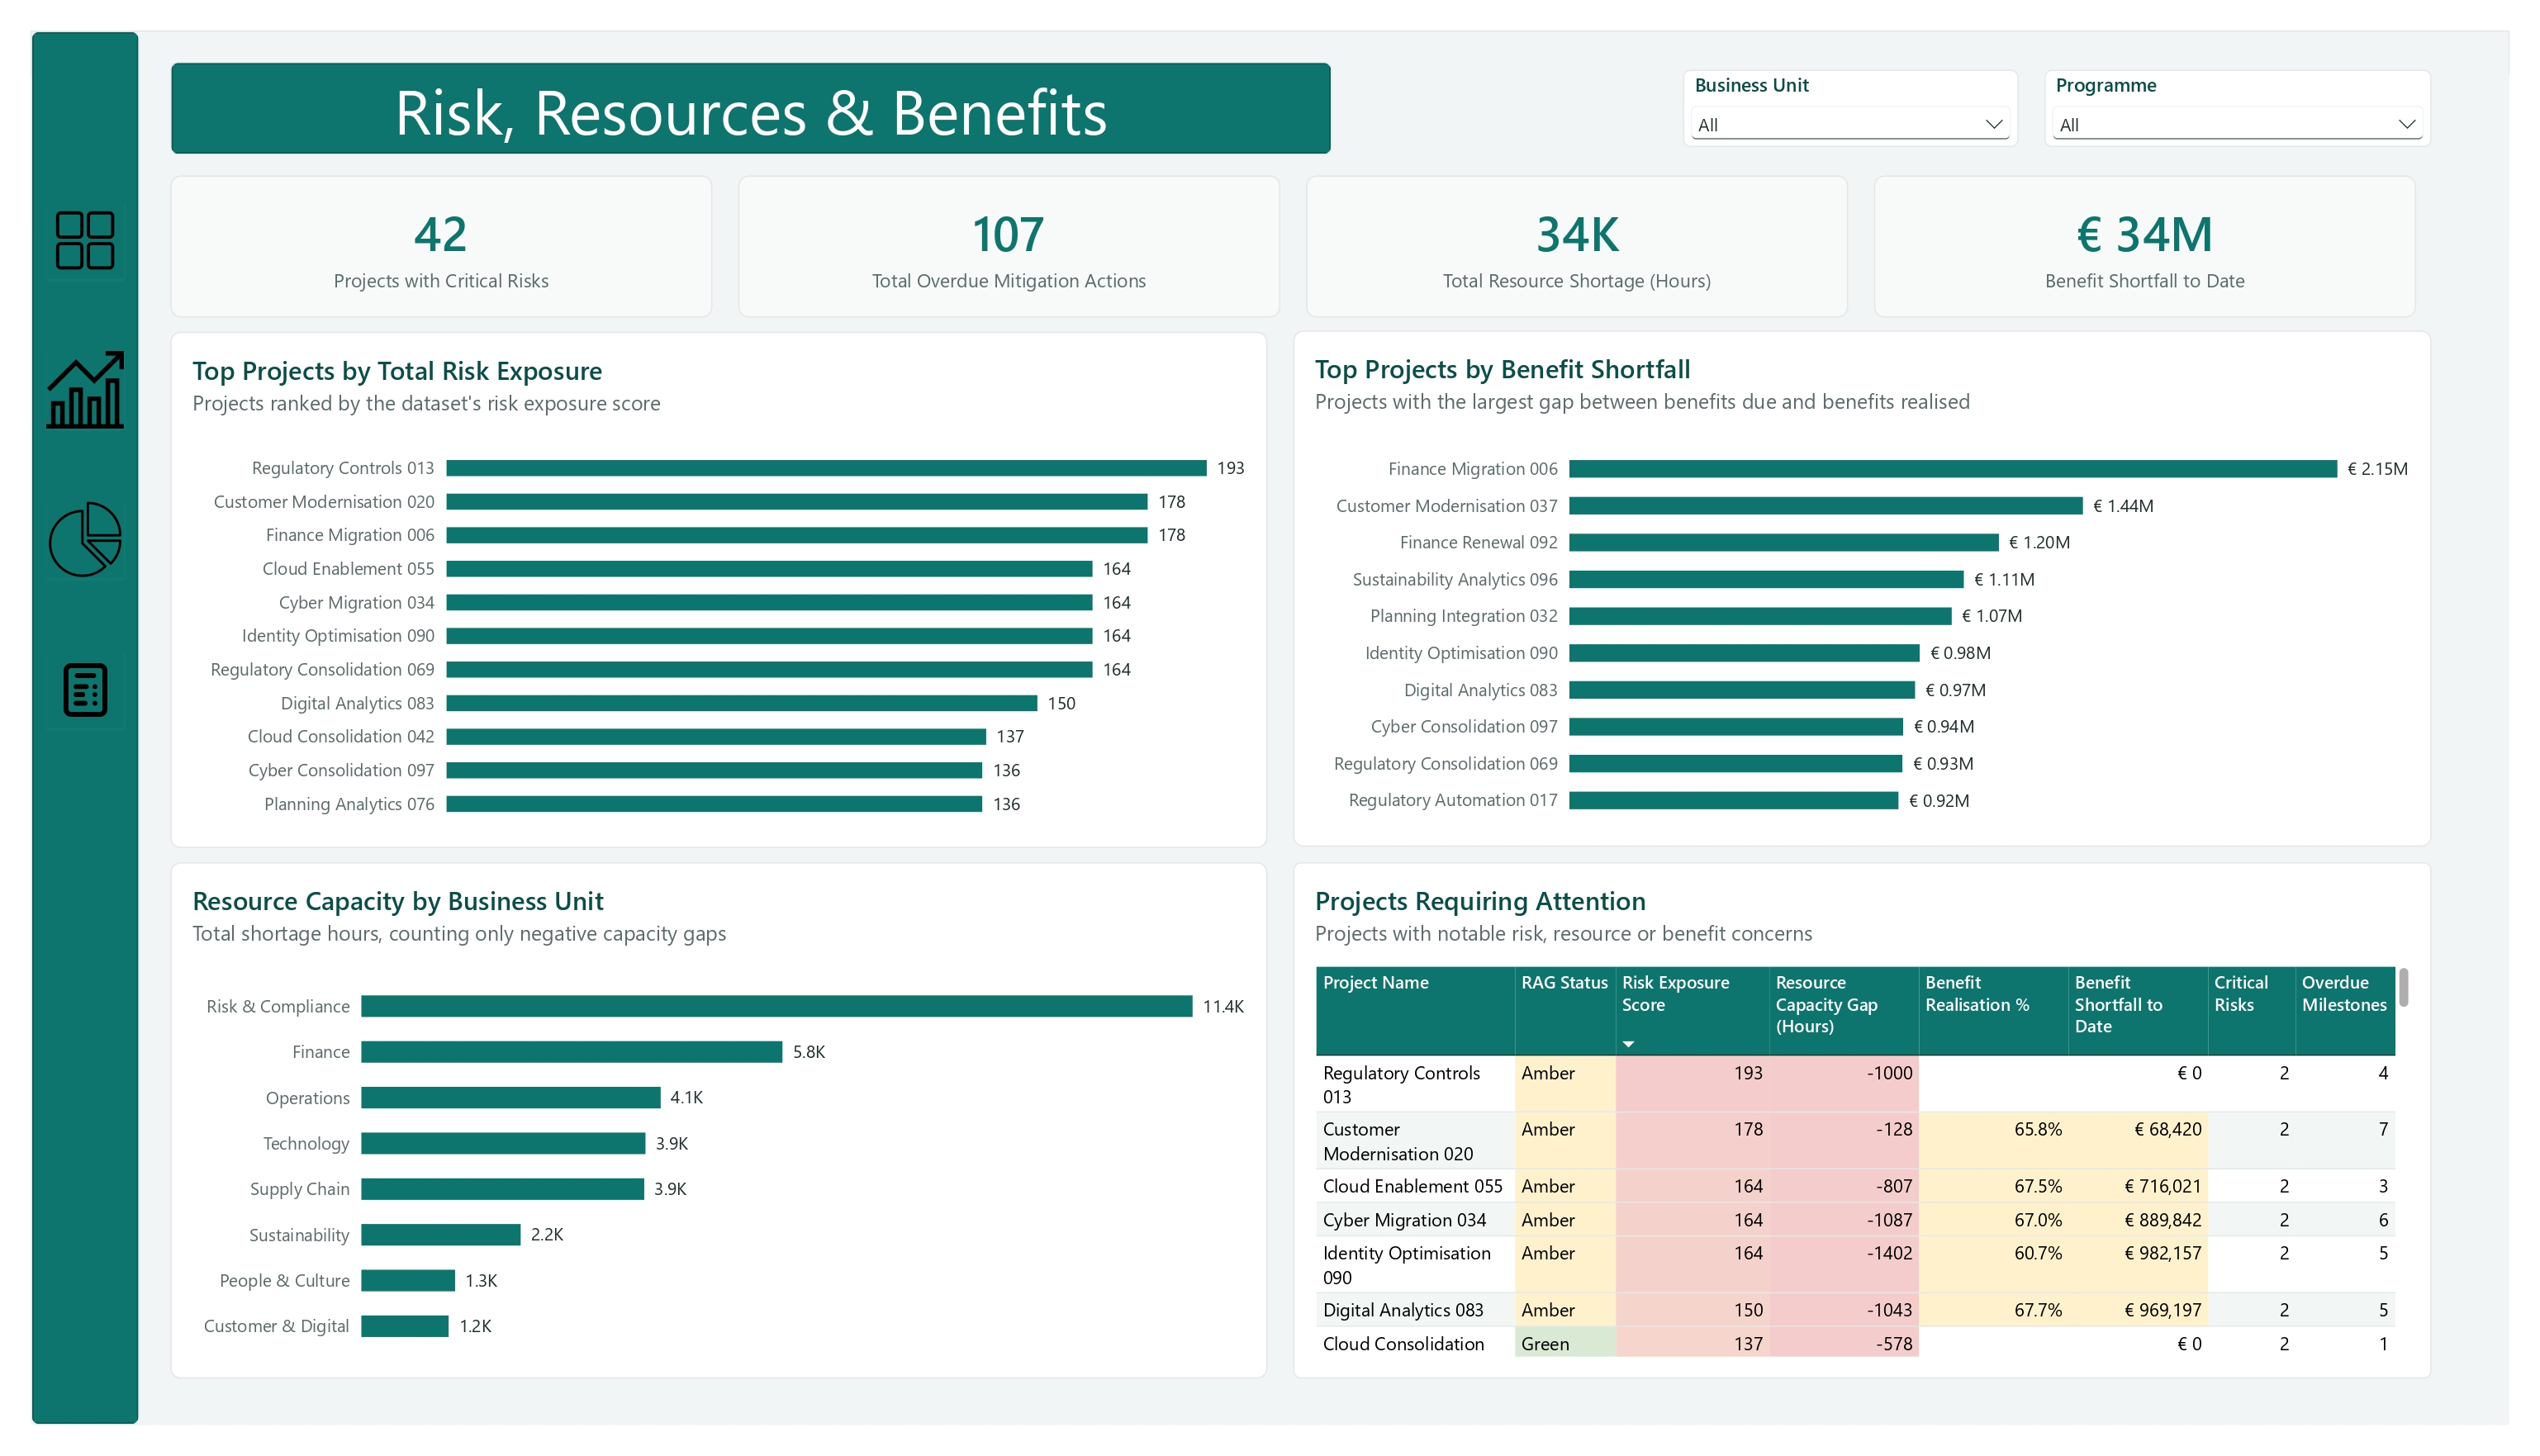

The page's visual inventory and layout, read from the dashboard file:
{"tool":"powerbi","page":{"name":"Risk, Resources & Benefits","canvas":[1920,1080],"ordinal":2},"visuals":[{"type":"shape","box":[0,0,84,1080],"z":0},{"type":"shape","box":[108,24,900,72],"z":1000},{"type":"card","fields":{"Values":["Measures (2).Projects with Critical Risks"]},"box":[108.3,112,420,110],"z":2000},{"type":"card","fields":{"Values":["Measures (2).Total Overdue Mitigation Actions"]},"box":[548,112,420,110],"z":3000},{"type":"card","fields":{"Values":["Measures (2).Total Resource Shortage (Hours)"]},"box":[988,112,420,110],"z":4000},{"type":"card","fields":{"Values":["Measures (2).Benefit Shortfall to Date"]},"box":[1428,112,420,110],"z":5000},{"type":"clusteredBarChart","title":"Top Projects by Total Risk Exposure","fields":{"Category":["DimProjectTable.ProjectName"],"Y":["Sum(CurrentProjectSnapshot.RiskExposureScore)"]},"box":[107.6,232.7,850,400],"z":6000},{"type":"barChart","title":"Resource Capacity by Business Unit","fields":{"Category":["DimBusinessUnitTable.BusinessUnitName"],"Y":["Measures (2).Total Resource Shortage (Hours)"]},"box":[108,644,850,400],"z":7000},{"type":"barChart","title":"Top Projects by Benefit Shortfall","fields":{"Category":["DimProjectTable.ProjectName"],"Y":["Measures (2).Benefit Shortfall to Date"]},"box":[978,232,882,400],"z":8000},{"type":"tableEx","title":"Projects Requiring Attention","fields":{"Values":["DimProjectTable.ProjectName","CurrentProjectSnapshot.RAGStatus","CurrentProjectSnapshot.RiskExposureScore","Measures (2).Net Resource Capacity Gap (Hours)","Measures (2).Benefit Realisation %","Measures (2).Benefit Shortfall to Date","Measures (2).Total Critical Risks","Measures (2).Total Overdue Milestones"]},"box":[978,644,882,400],"z":9000},{"type":"slicer","fields":{"Values":["DimProgrammeTable.ProgrammeName"]},"box":[1560,30,300,60],"z":10000},{"type":"slicer","fields":{"Values":["DimBusinessUnitTable.BusinessUnitName"]},"box":[1280,30,260,60],"z":11000},{"type":"actionButton","box":[12,364,60,60],"z":11001},{"type":"actionButton","box":[12,248,60,60],"z":11002},{"type":"actionButton","box":[12,132,60,60],"z":11003},{"type":"actionButton","box":[12,480,60,60],"z":11004}]}

Visuals, with their boxes on the page's 1920x1080 design canvas (x1, y1, x2, y2). These are canvas units, not pixel positions in the 2540x1456 screenshot, which may show the page scaled, cropped or inside an application window:
shape: x1=0 y1=0 x2=84 y2=1080
shape: x1=108 y1=24 x2=1008 y2=96
card - Measures (2).Projects with Critical Risks: x1=108 y1=112 x2=528 y2=222
card - Measures (2).Total Overdue Mitigation Actions: x1=548 y1=112 x2=968 y2=222
card - Measures (2).Total Resource Shortage (Hours): x1=988 y1=112 x2=1408 y2=222
card - Measures (2).Benefit Shortfall to Date: x1=1428 y1=112 x2=1848 y2=222
"Top Projects by Total Risk Exposure" clusteredBarChart: x1=108 y1=233 x2=958 y2=633
"Resource Capacity by Business Unit" barChart: x1=108 y1=644 x2=958 y2=1044
"Top Projects by Benefit Shortfall" barChart: x1=978 y1=232 x2=1860 y2=632
"Projects Requiring Attention" tableEx: x1=978 y1=644 x2=1860 y2=1044
slicer - DimProgrammeTable.ProgrammeName: x1=1560 y1=30 x2=1860 y2=90
slicer - DimBusinessUnitTable.BusinessUnitName: x1=1280 y1=30 x2=1540 y2=90
actionButton: x1=12 y1=364 x2=72 y2=424
actionButton: x1=12 y1=248 x2=72 y2=308
actionButton: x1=12 y1=132 x2=72 y2=192
actionButton: x1=12 y1=480 x2=72 y2=540
